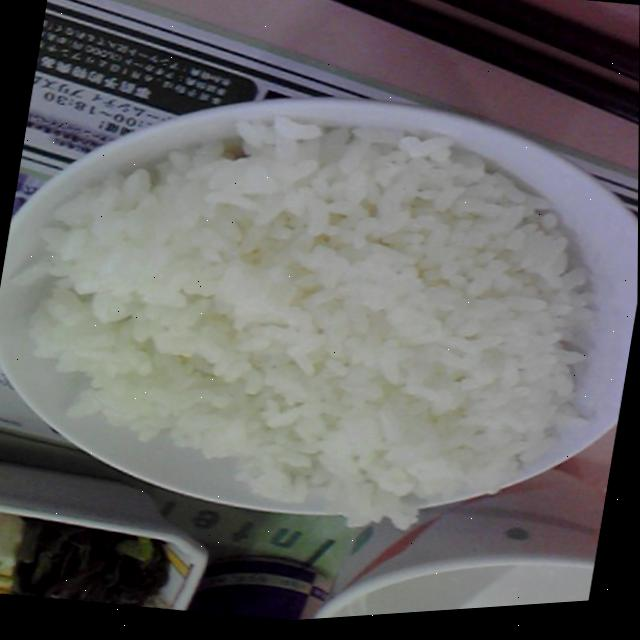米饭主食: (0, 36, 640, 568)
